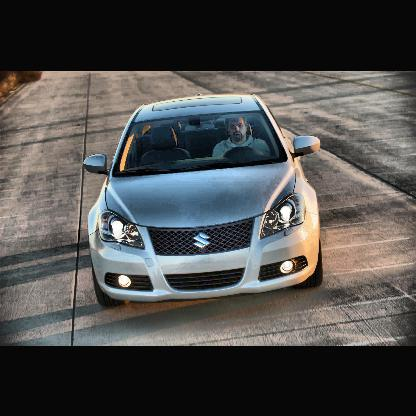Suzuki Kizashi Sedan 2012: (83, 90, 323, 315)
